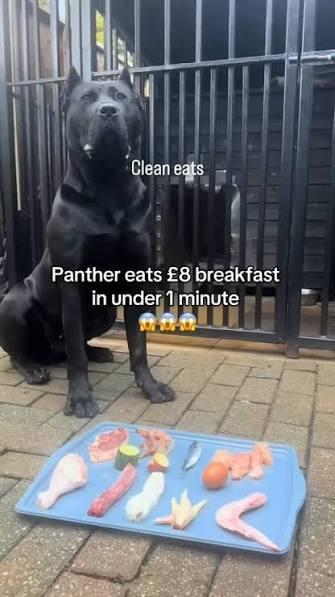adult_dog: (0, 59, 178, 420)
